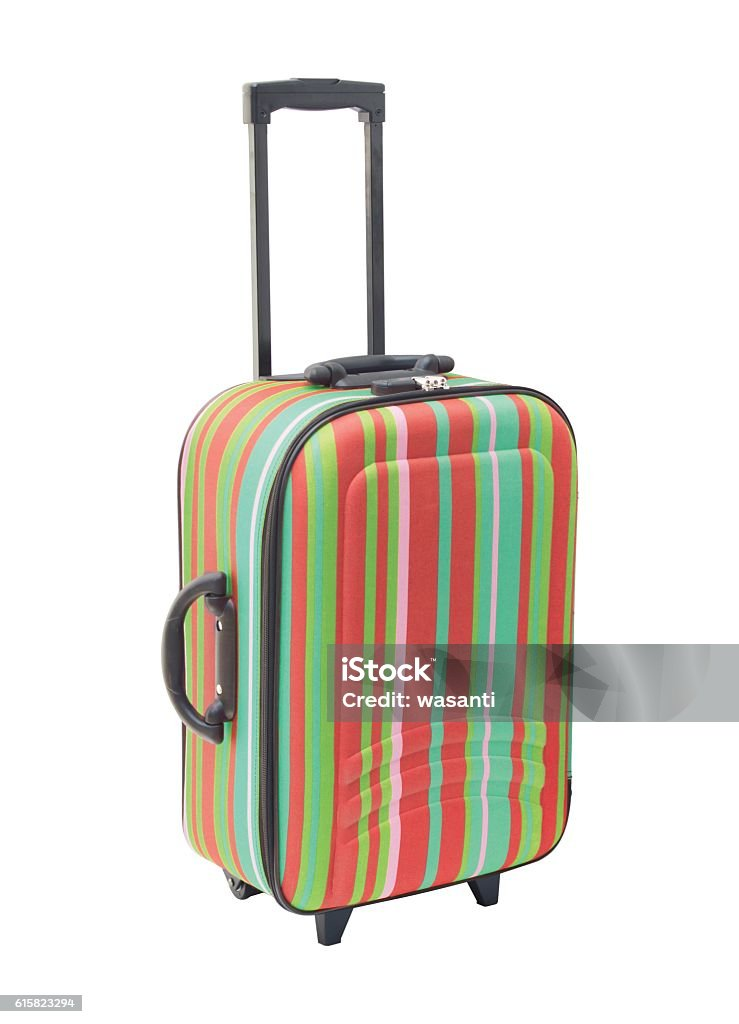Bag: (160, 66, 577, 934)
Handle: (233, 68, 405, 374)
